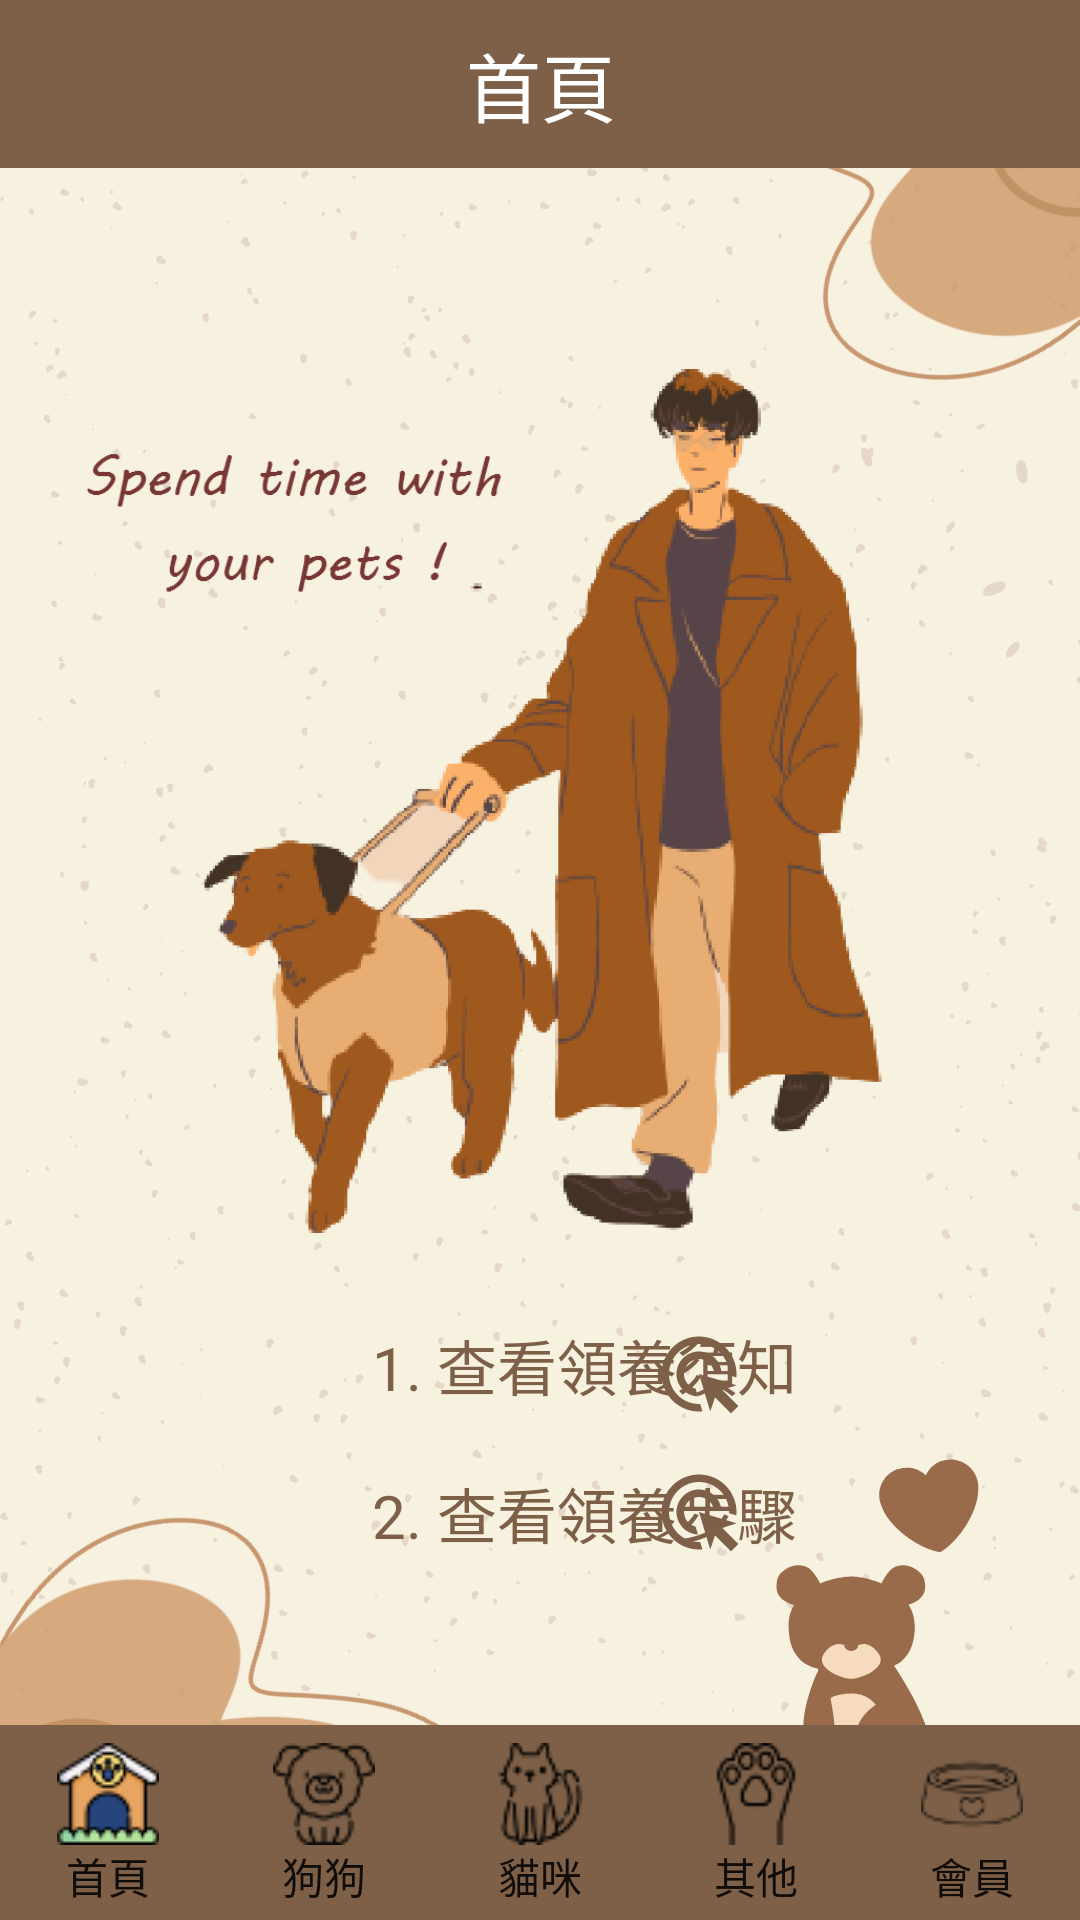

Icon click points for this 1080 x 1920 phone screenshot, format point (x, y):
click: point (699, 1376), point (699, 1514)
